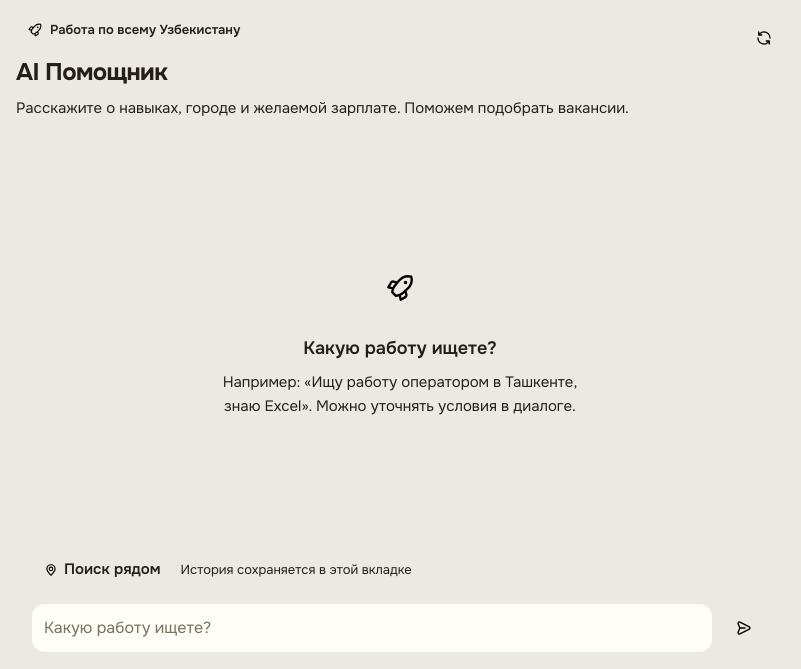
Scenario: reset cancels a pending request and its late response cannot enter the new dialogue
Type "Ищу работу" into the field at (372, 628), box left=32, top=604, right=712, bottom=652
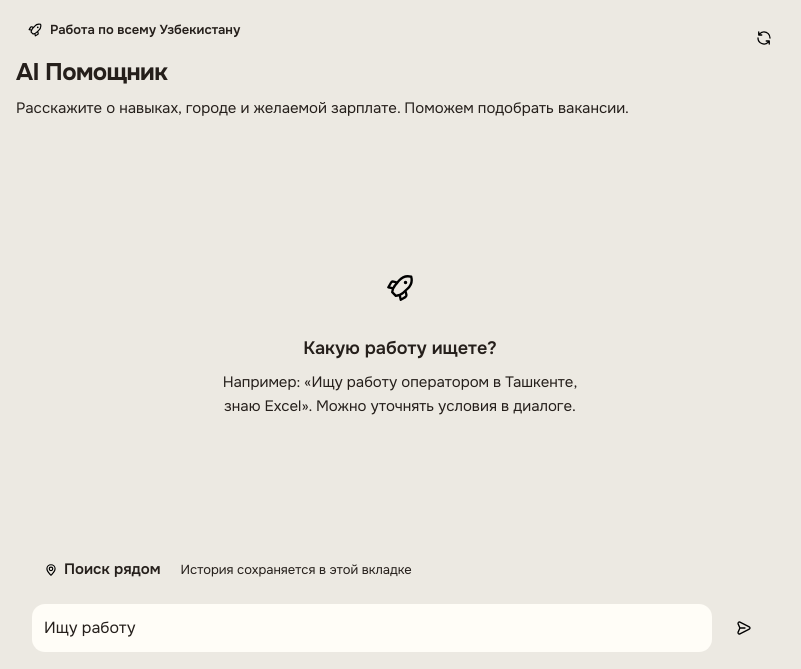
Click the button named "Отправить" at (744, 628), box left=720, top=604, right=768, bottom=652
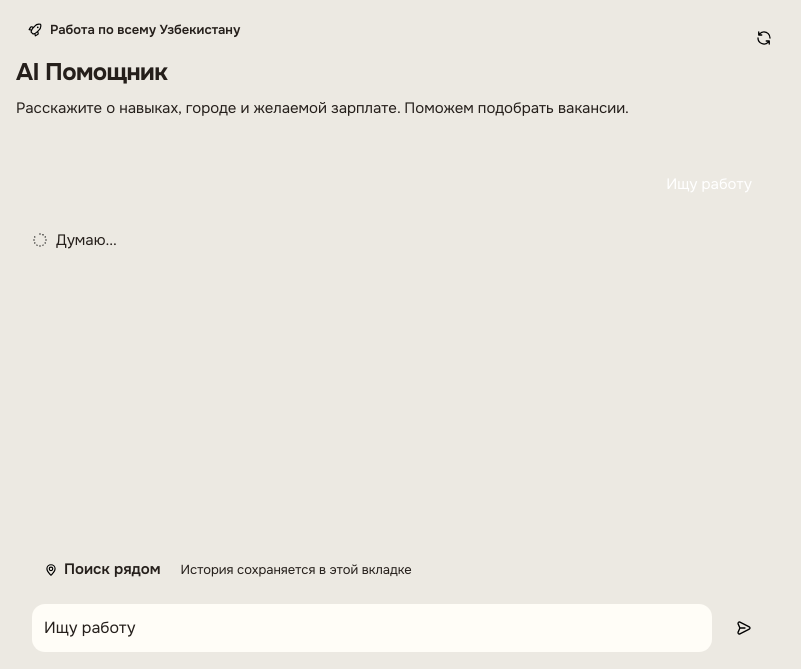
Click the button named "Новый диалог" at (764, 38), box left=744, top=16, right=784, bottom=60
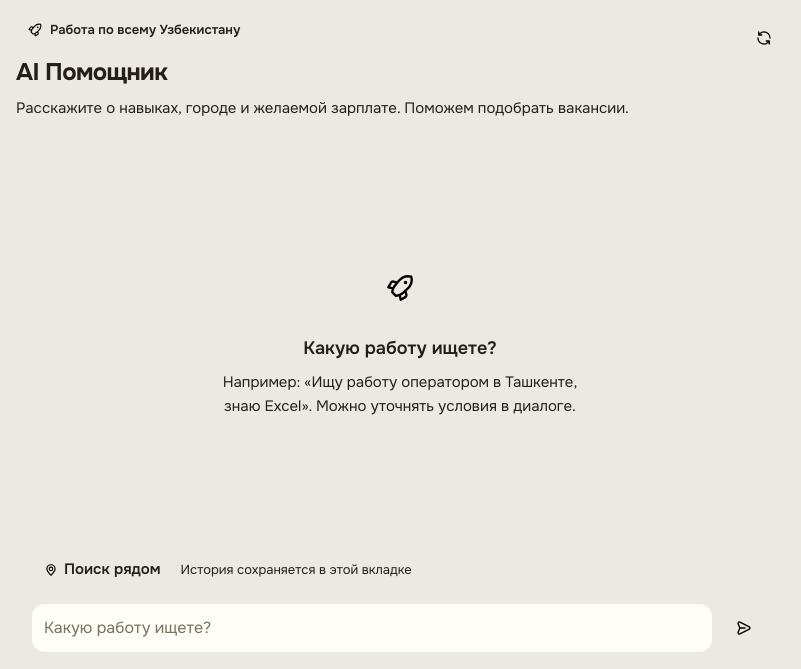
Expected: the field is empty, left=32, top=604, right=712, bottom=652
